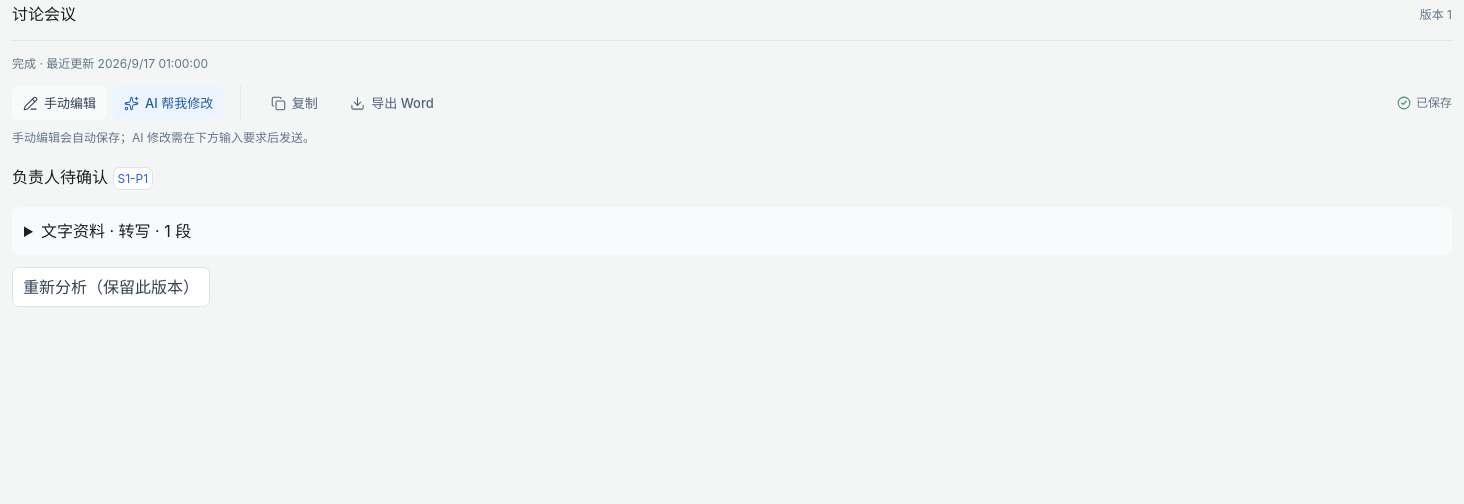
Test: meeting results › shows exact evidence and paragraph locator without inventing a timestamp
The image size is (1464, 504).
Click the button "S1-P1" at coordinates (133, 179), box [112,167,153,190]
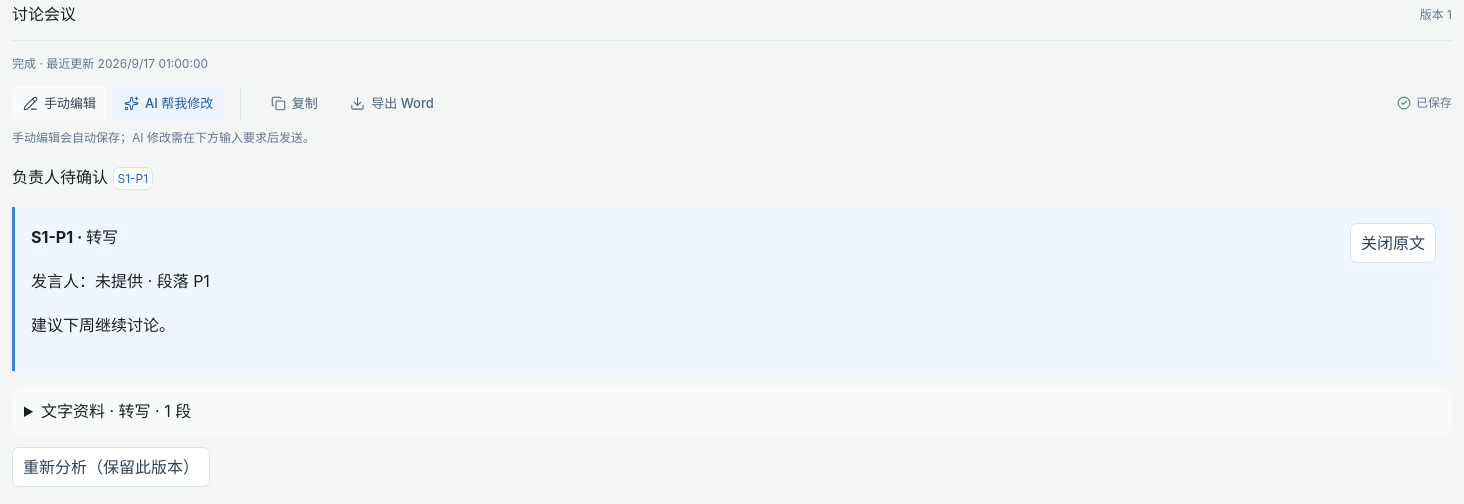
Expected: the text "建议下周继续讨论。" is shown, [31,315,175,335]
Expected: the text "发言人：未提供 · 段落 P1" is shown, [31,271,210,291]
